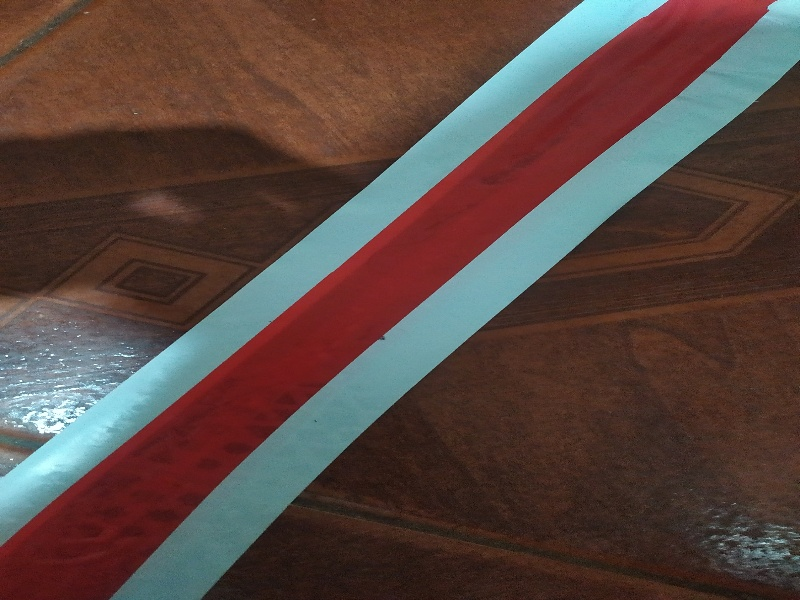saindoEsquerda: (6, 1, 793, 594)
